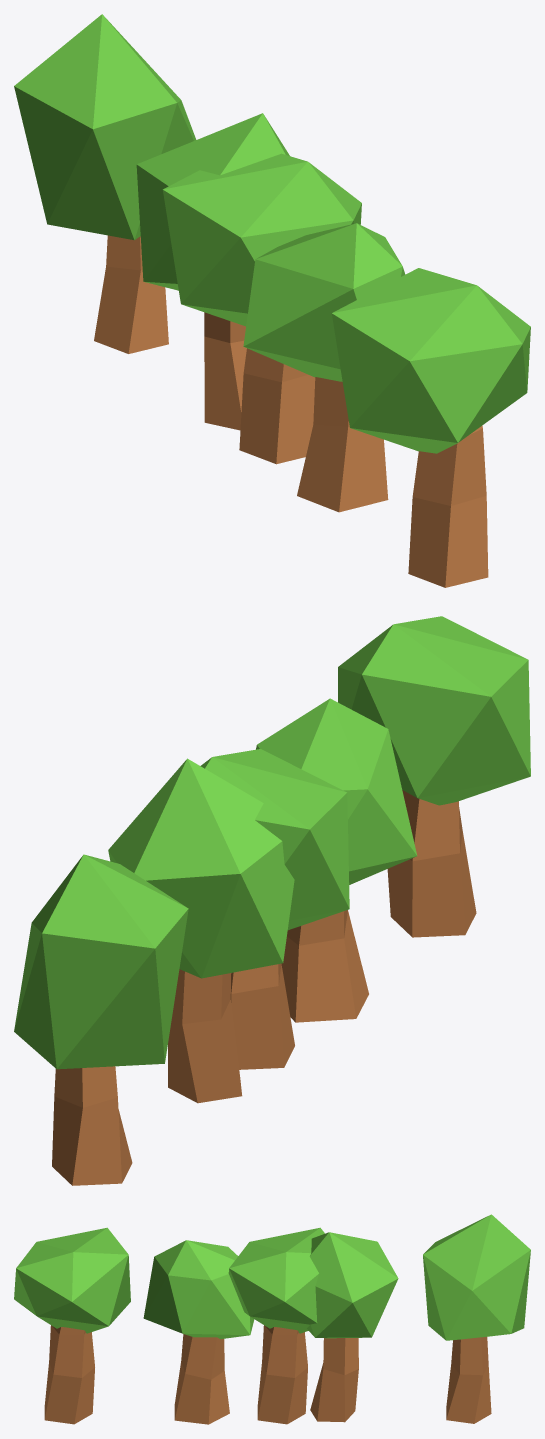
The model's file is tree.fbx.
3 renders of one model, top to bottom at view 1: azimuth 30°, elevation 25°; view 2: azimuth 150°, elevation 25°; view 3: azimuth 270°, elevation 25°, orthographic. The views are drawn at different scales.
Parts seen in each view (by area): view 1: Tree1, Tree4, Tree2, Leaf, Tree3, Bark; view 2: Tree4, Tree1, Tree3, Tree2, Leaf, Bark; view 3: Tree4, Tree1, Tree2, Tree3, Leaf, Bark.
Boxes of the visible parts, left/top/right/bottom form: Tree1: left=331, top=268, right=530, bottom=587; Tree4: left=14, top=14, right=196, bottom=353; Tree2: left=243, top=223, right=405, bottom=512; Leaf: left=162, top=153, right=361, bottom=326; Tree3: left=136, top=113, right=289, bottom=430; Bark: left=239, top=348, right=315, bottom=464; Tree4: left=14, top=854, right=188, bottom=1185; Tree1: left=338, top=616, right=530, bottom=937; Tree3: left=108, top=758, right=294, bottom=1103; Tree2: left=256, top=698, right=417, bottom=1022; Leaf: left=200, top=749, right=349, bottom=930; Bark: left=230, top=963, right=294, bottom=1069; Tree4: left=423, top=1214, right=530, bottom=1423; Tree1: left=14, top=1227, right=130, bottom=1424; Tree2: left=143, top=1240, right=254, bottom=1424; Tree3: left=307, top=1232, right=398, bottom=1422; Leaf: left=228, top=1227, right=324, bottom=1333; Bark: left=257, top=1325, right=307, bottom=1424.
Size of the model in its own units: 494 by 814 by 1942.
